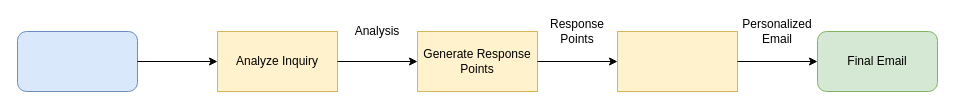
The diagram is 955 pixels wide and 109 high, and some of its shapes have lost their labels. Here are the shapes that lost their labels. From the top down, the box of each, then its label:
(16, 30, 138, 92): Customer Inquiry
(616, 30, 738, 92): Craft Email
